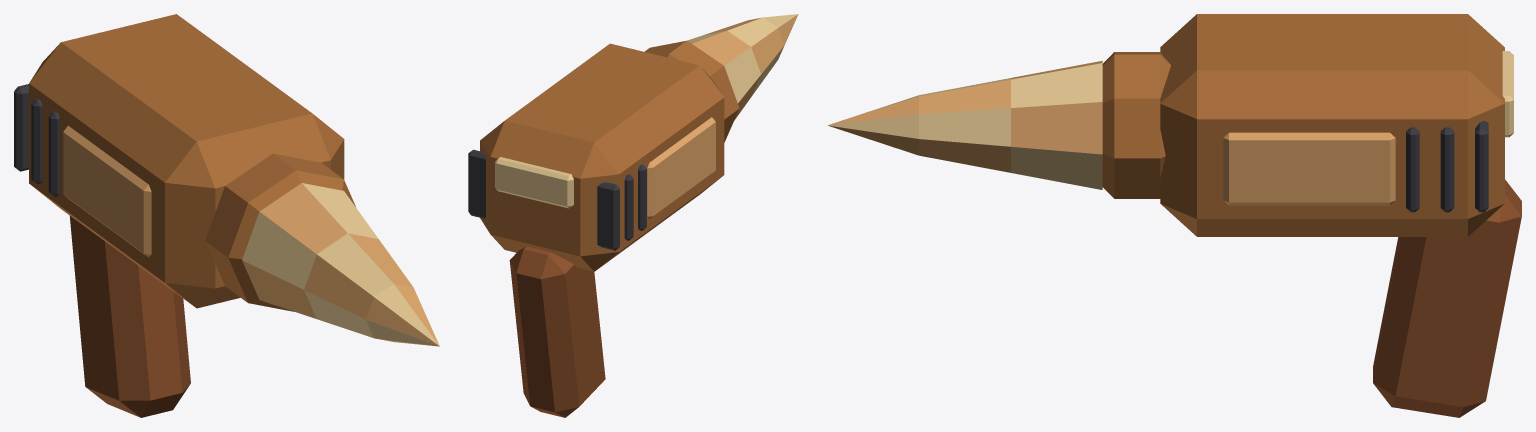
File: WoodDrill.fbx
3 views of the same model, side by side, from view 1: azimuth 30°, elevation 25°; view 2: azimuth 150°, elevation 25°; view 3: azimuth 270°, elevation 25° (orthographic). The views are drawn at different scales.
Parts seen in each view (by area): view 1: WoodDrill; view 2: WoodDrill; view 3: WoodDrill.
Boxes of the visible parts, x1,y1,x2,y2 form: WoodDrill: (14, 14, 439, 417); WoodDrill: (468, 14, 798, 417); WoodDrill: (827, 14, 1521, 417).
Bounding box in the file's own units: 0.97 × 1.77 × 3.02.
1 material, 1 textured.
